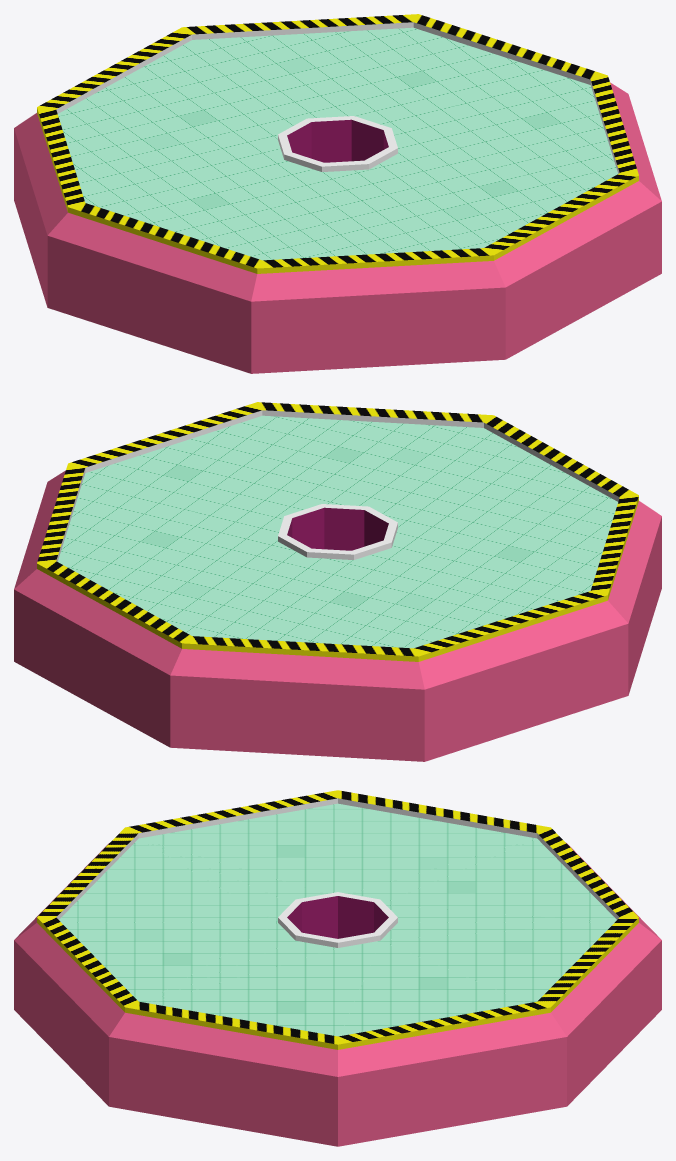
3 views of the same model, one above another, from view 1: azimuth 30°, elevation 25°; view 2: azimuth 150°, elevation 25°; view 3: azimuth 270°, elevation 25° (orthographic). The views are drawn at different scales.
Visible parts, largest first — view 1: floor_octagon; view 2: floor_octagon; view 3: floor_octagon.
Part boxes in pixels (x1,y1,x2,y2): floor_octagon: (14, 14, 661, 373); floor_octagon: (14, 402, 661, 761); floor_octagon: (14, 790, 661, 1146).
Size of the model in its own units: 2547 by 401 by 2547.
Materials: 1 (1 with a texture image).
